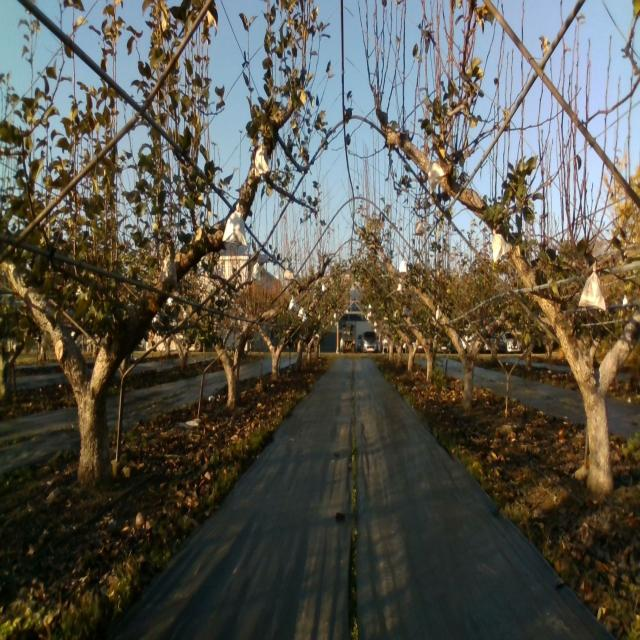pearbags: (578, 260, 607, 314), (222, 201, 248, 247), (491, 229, 511, 263), (254, 142, 270, 178), (427, 160, 444, 193), (159, 255, 178, 282)
